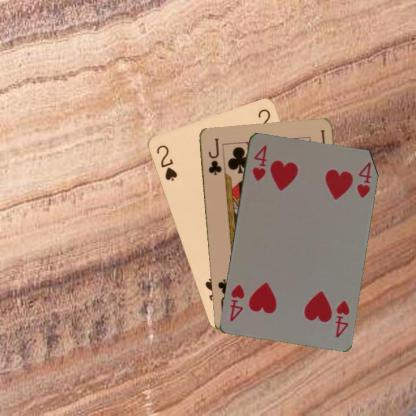2s: (153, 142, 179, 183)
4h: (332, 297, 350, 339), (250, 142, 268, 182)
Jc: (205, 135, 223, 176)
